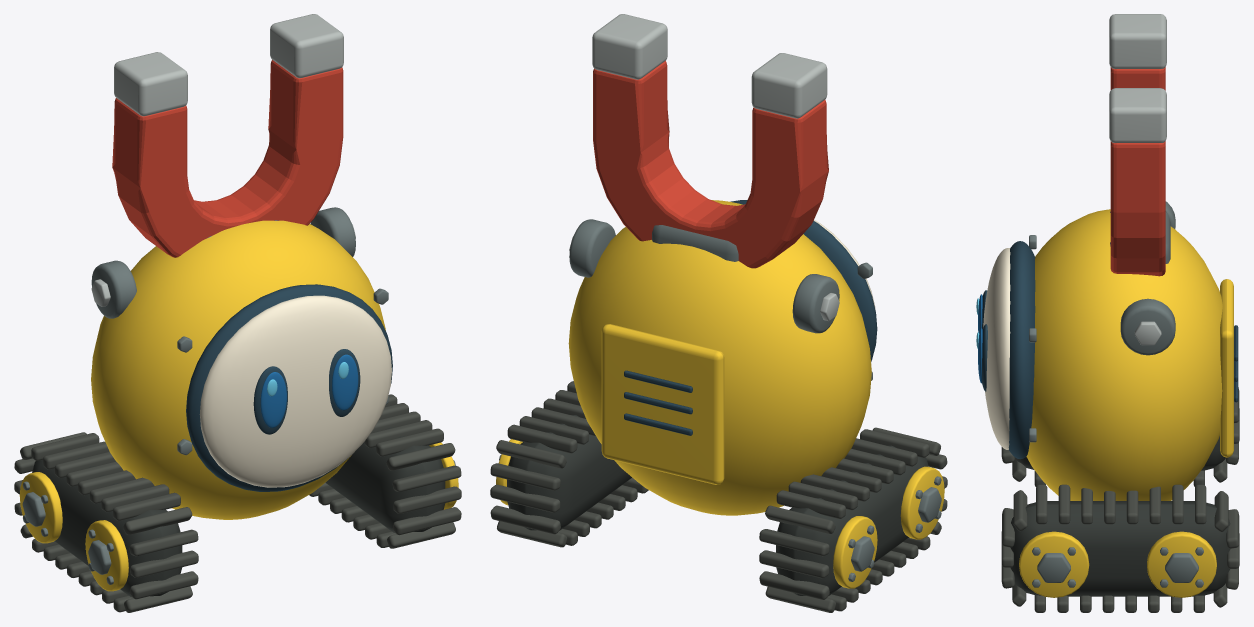
The model's file is robot.glb.
The picture shows the model from 3 angles, left to right: view 1: azimuth 30°, elevation 25°; view 2: azimuth 150°, elevation 25°; view 3: azimuth 270°, elevation 25°; orthographic projection. The views are drawn at different scales.
Visible parts, largest first — view 1: robot_Butter yellow, robot_Warm ivory, robot_Vermilion, robot_chassis_Rubber, robot_Brushed steel, robot_Midnight blue, robot_Gunmetal, wheel_R_0, wheel_R_1, robot_Cobalt glass, tread_R_11, tread_L_11 (+18 smaller); view 2: robot_Butter yellow, robot_Vermilion, robot_chassis_Rubber, robot_Brushed steel, robot_Gunmetal, robot_Midnight blue, wheel_R_1, wheel_R_0, tread_R_22, tread_L_22, tread_R_00, tread_L_00 (+17 smaller); view 3: robot_Butter yellow, robot_chassis_Rubber, robot_Vermilion, robot_Brushed steel, robot_Midnight blue, robot_Warm ivory, wheel_L_0, wheel_L_1, robot_Gunmetal, tread_L_08, tread_L_25, tread_L_06 (+10 smaller).
Boxes of the visible parts, x1,y1,x2,y2 form: robot_Butter yellow: (91, 220, 385, 519); robot_Warm ivory: (199, 295, 391, 487); robot_Vermilion: (112, 60, 343, 257); robot_chassis_Rubber: (32, 419, 445, 597); robot_Brushed steel: (91, 14, 355, 306); robot_Midnight blue: (186, 284, 392, 491); robot_Gunmetal: (91, 207, 388, 455); wheel_R_0: (85, 520, 128, 591); wheel_R_1: (19, 472, 62, 543); robot_Cobalt glass: (260, 354, 358, 427); tread_R_11: (129, 571, 198, 599); tread_L_11: (392, 507, 461, 535); robot_Butter yellow: (568, 200, 871, 515); robot_Vermilion: (593, 61, 828, 268); robot_chassis_Rubber: (507, 415, 928, 595); robot_Brushed steel: (569, 14, 839, 320); robot_Gunmetal: (569, 219, 872, 380); robot_Midnight blue: (624, 200, 877, 435); wheel_R_1: (833, 516, 877, 588); wheel_R_0: (900, 466, 944, 539); tread_R_22: (759, 571, 829, 599); tread_L_22: (490, 505, 560, 534); tread_R_00: (776, 490, 845, 518); tread_L_00: (507, 424, 577, 453); robot_Butter yellow: (1026, 209, 1233, 500); robot_chassis_Rubber: (1010, 436, 1230, 596); robot_Vermilion: (1110, 67, 1165, 276); robot_Brushed steel: (1109, 14, 1166, 345); robot_Midnight blue: (982, 241, 1238, 459); robot_Warm ivory: (983, 248, 1010, 449); wheel_L_0: (1019, 531, 1089, 597); wheel_L_1: (1147, 531, 1216, 597); robot_Gunmetal: (1029, 201, 1175, 442); tread_L_08: (1013, 490, 1027, 531); tread_L_25: (1214, 491, 1228, 531); tread_L_06: (1058, 484, 1070, 524).
Size of the model in its own units: 1.58 by 2.1 by 1.05.
